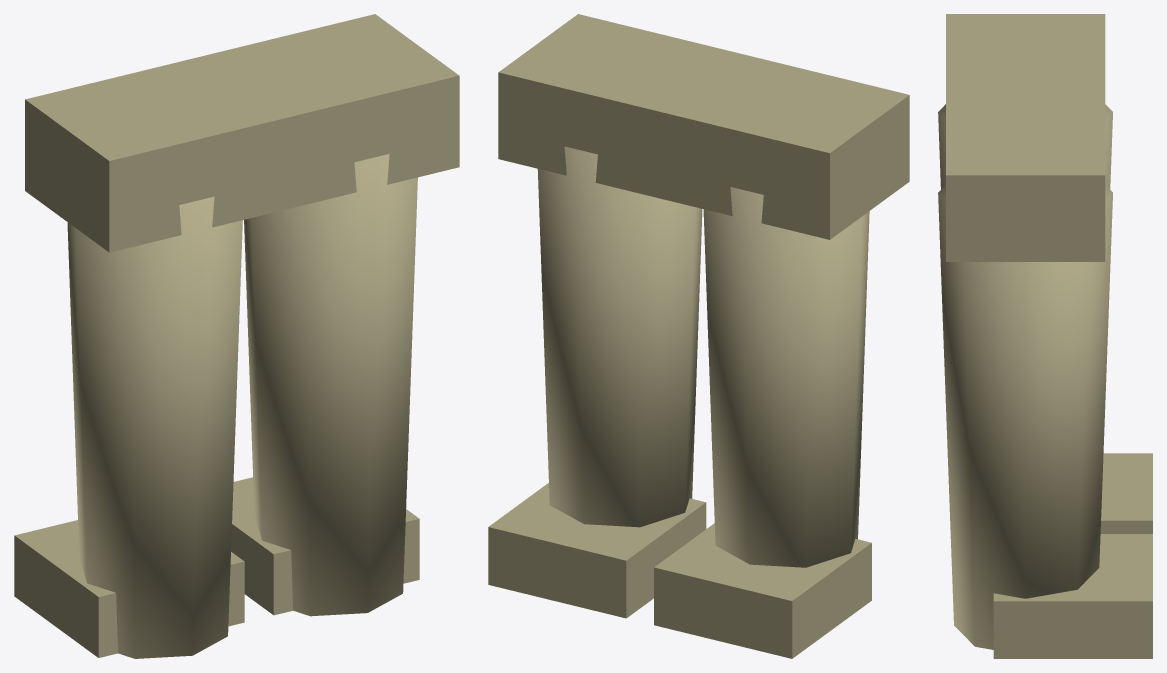
File: tin_greaves.glb
3 views of the same model, side by side, from view 1: azimuth 30°, elevation 25°; view 2: azimuth 150°, elevation 25°; view 3: azimuth 270°, elevation 25° (orthographic). The views are drawn at different scales.
Parts seen in each view (by area): view 1: tin_greaves_v0; view 2: tin_greaves_v0; view 3: tin_greaves_v0.
Boxes of the visible parts, bbox=[...] form: tin_greaves_v0: bbox=[14, 14, 459, 658]; tin_greaves_v0: bbox=[488, 14, 909, 658]; tin_greaves_v0: bbox=[938, 14, 1152, 658].
Bounding box in the file's own units: 0.24 × 0.34 × 0.135.
